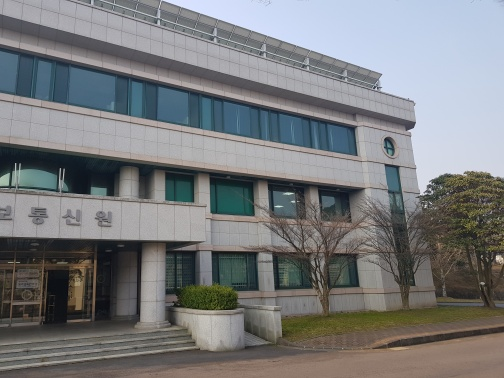Information Telecommunication Center: (25, 61, 422, 310), (25, 198, 122, 239)
